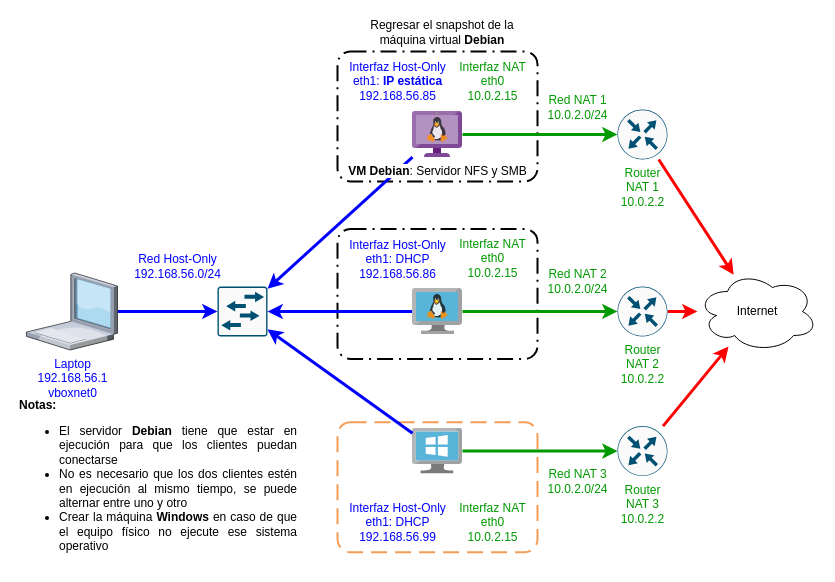
Image size: 835x582. Some labels were removed from this diagram. The shapes that lost their labels are listed below. From the top down, each one's box as (x1, y1, x2, y2) in pixels, then its label:
(216, 286, 268, 336): VirtualBox Red host-only vboxnet0 DHCP Habilitado
(412, 288, 462, 334): VM CentOS : Cliente NFS y SMB
(412, 428, 462, 474): VM Windows : Cliente NFS y SMB
